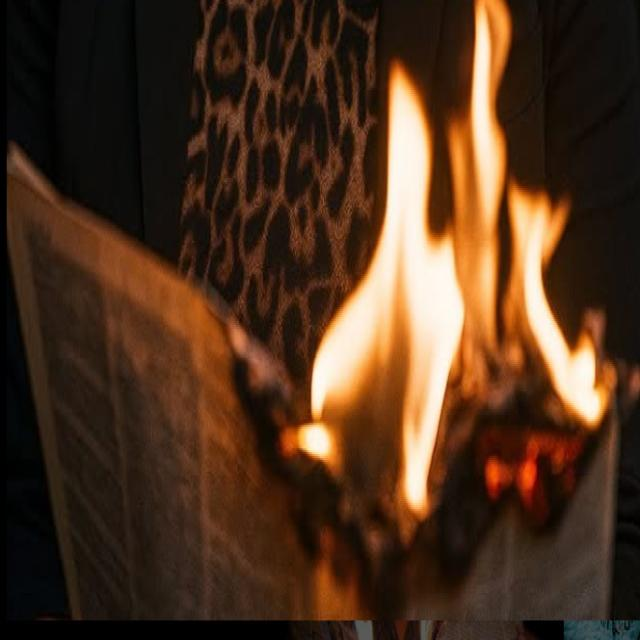fire: (281, 58, 465, 519), (446, 0, 617, 427), (486, 427, 582, 525)
